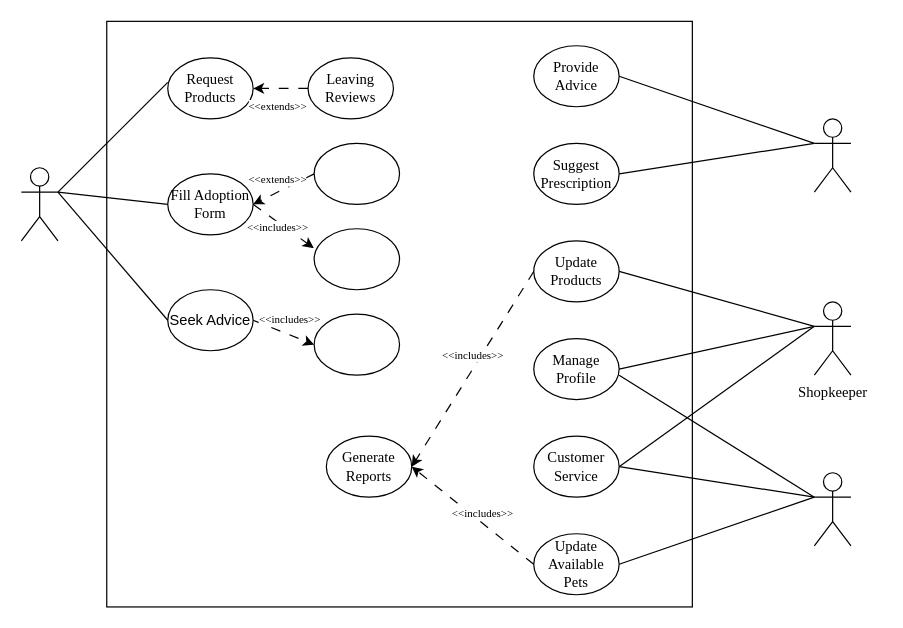
Some shapes in this 903 by 628 pixel diagram are drawn without their labels. Each missing label, with the box of its shape:
Adoption Center: (813, 472, 851, 546)
Messaging Professionals: (313, 313, 400, 375)
Request Multiple Pets: (313, 142, 400, 204)
Survey and profile testing: (313, 228, 400, 290)
User: (20, 167, 58, 241)
Veterinarian: (813, 118, 851, 192)
